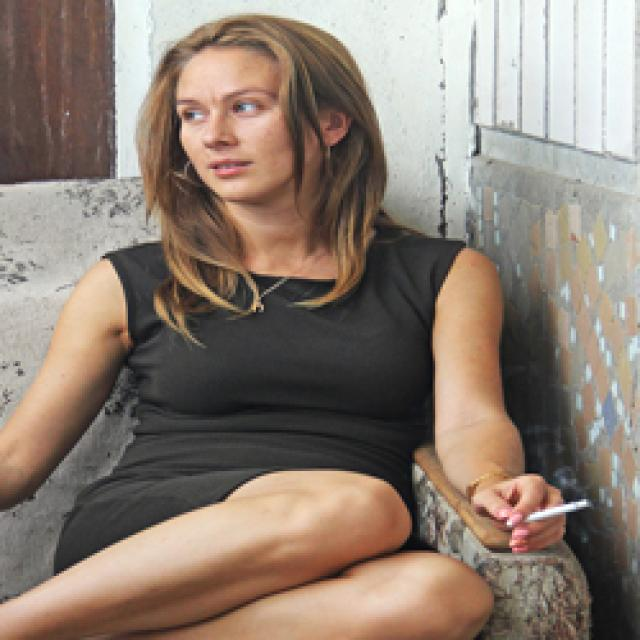Smooking: (522, 484, 594, 528)
